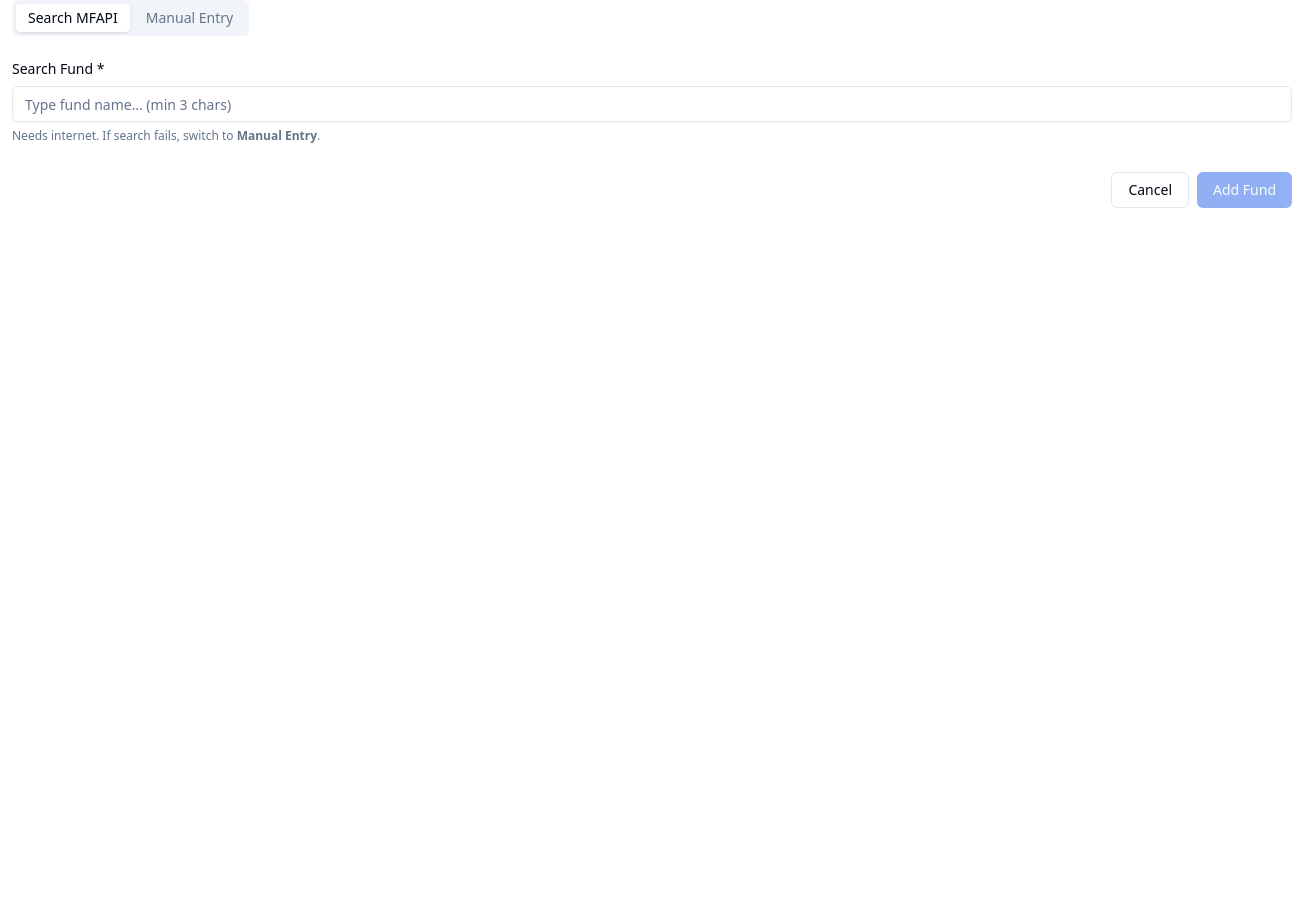
Test: MutualFundForm › renders fund name, scheme code, fund house, category fields in manual entry mode
Click the button "Manual Entry": (190, 18) [134, 4, 245, 32]
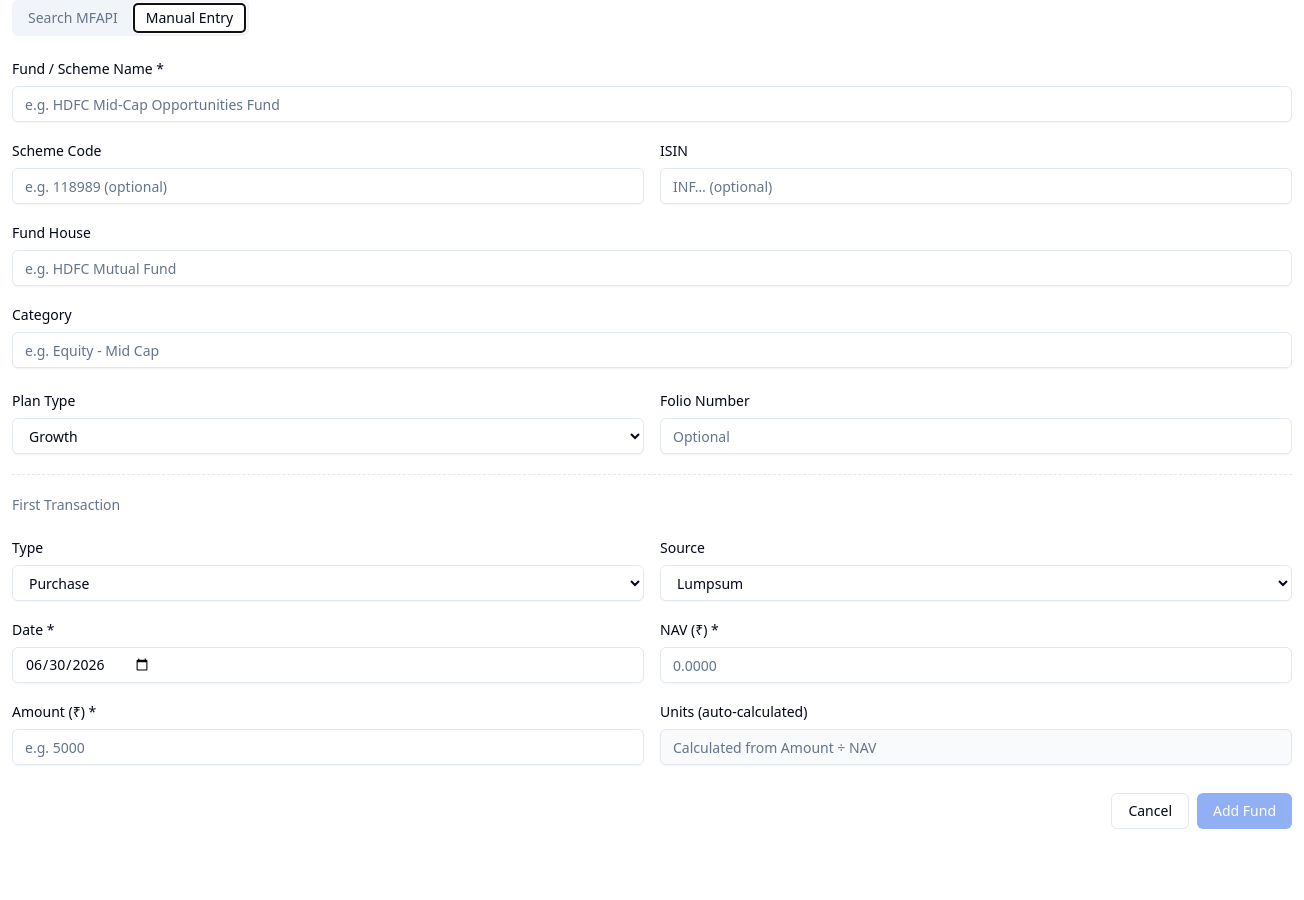
Expected: the field with placeholder "e.g. HDFC Mid-Cap Opportunities Fund" is shown, [12, 86, 1292, 122]
Expected: the field with placeholder "e.g. 118989 (optional)" is shown, [12, 168, 644, 204]
Expected: the field with placeholder "e.g. HDFC Mutual Fund" is shown, [12, 250, 1292, 286]
